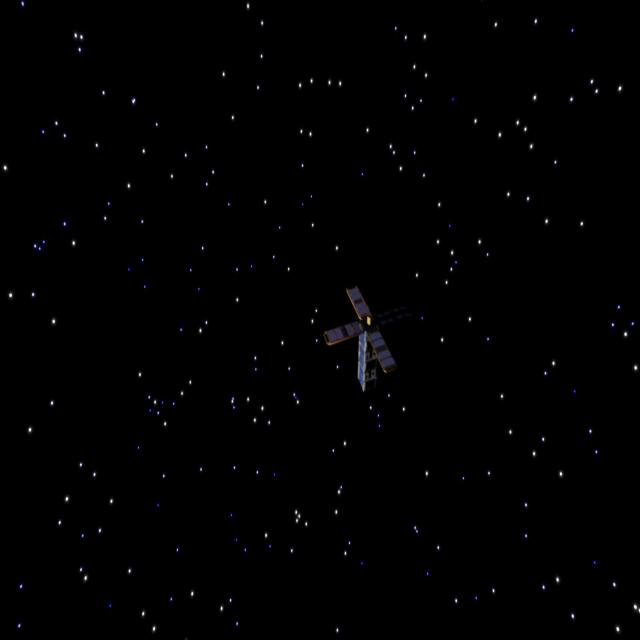medium_debris: (312, 284, 407, 405)
